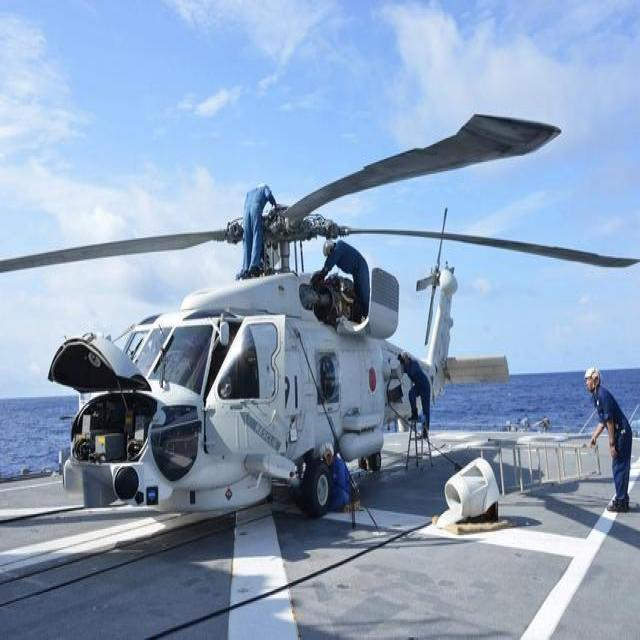MIL_HELO: (0, 70, 636, 554)
